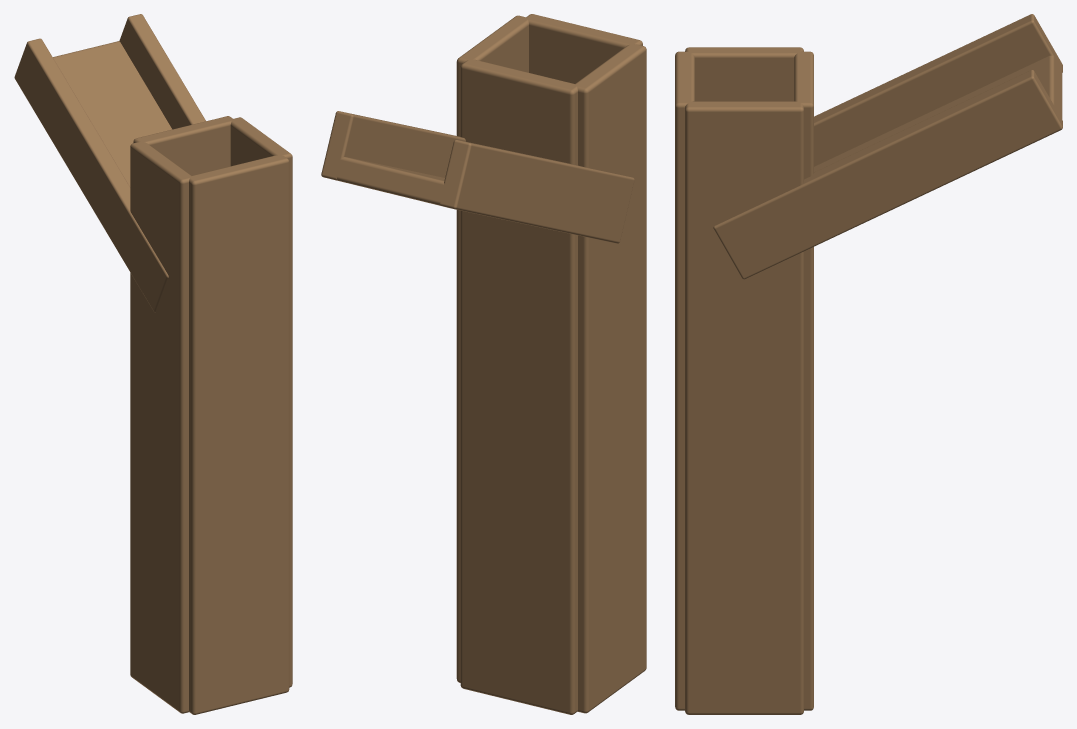
The model's file is meal-discharge-spout.glb.
3 views of the same model, side by side, from view 1: azimuth 30°, elevation 25°; view 2: azimuth 150°, elevation 25°; view 3: azimuth 270°, elevation 25° (orthographic). The views are drawn at different scales.
Parts seen in each view (by area): view 1: meal-discharge-spout; view 2: meal-discharge-spout; view 3: meal-discharge-spout.
Part boxes in pixels (x1,y1,x2,y2): meal-discharge-spout: (14,14,292,714); meal-discharge-spout: (321,14,646,714); meal-discharge-spout: (675,14,1062,714).
Size of the model in its own units: 0.345 by 1.6 by 0.879.
